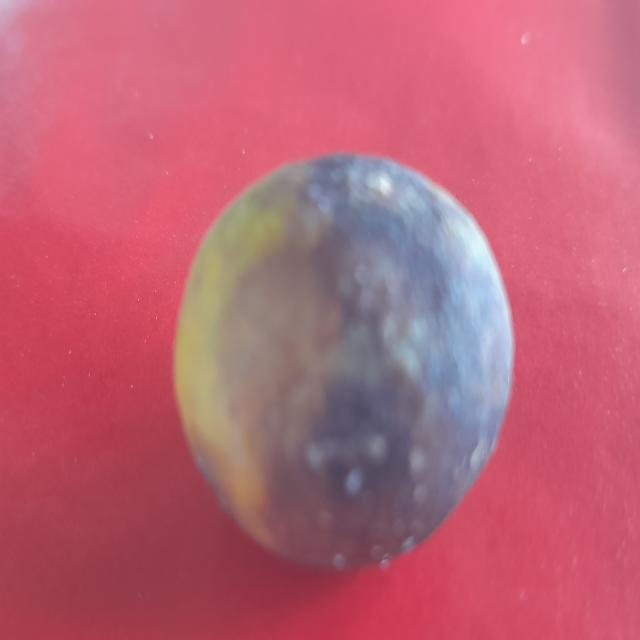black spot: (181, 155, 507, 562)
